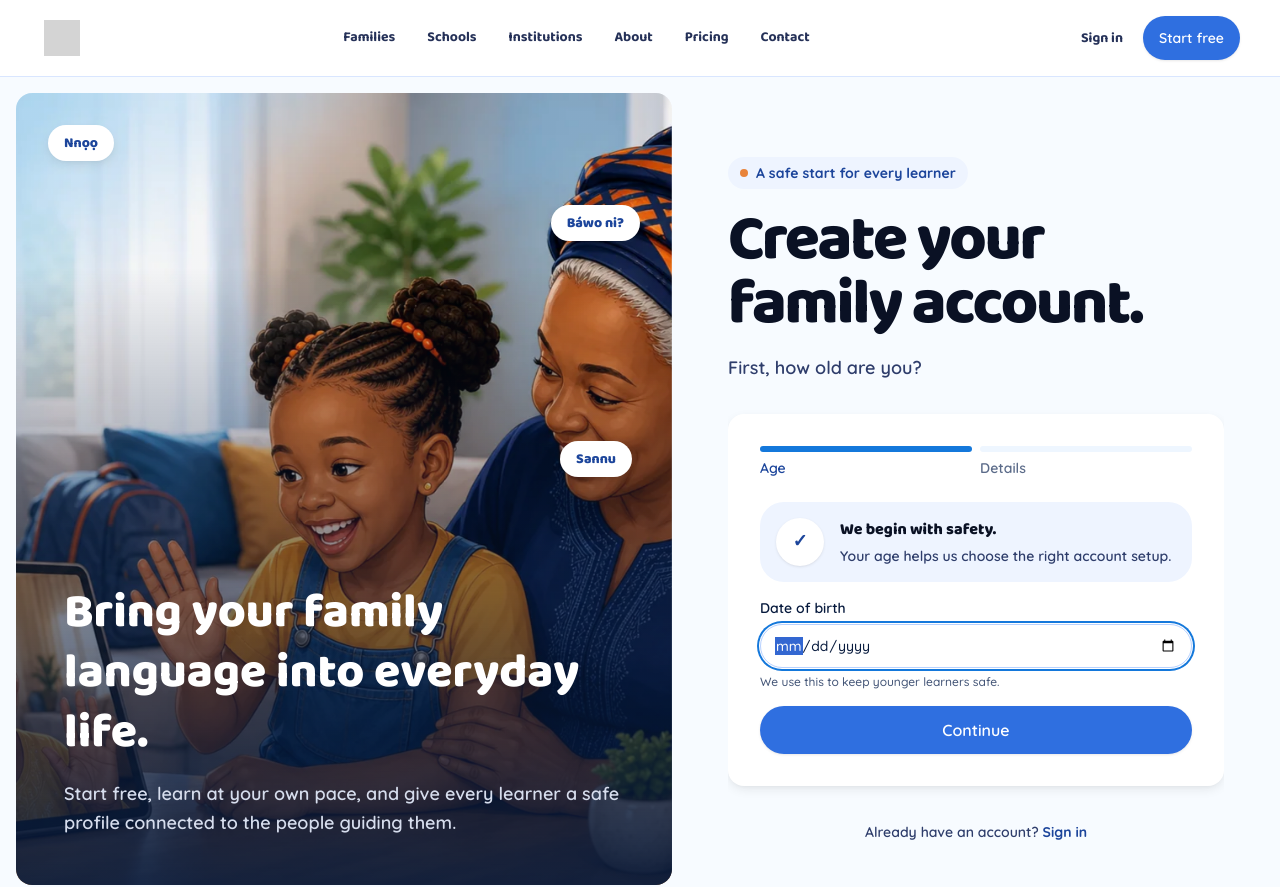
RegisterPage age gate › requires a date of birth before continuing
The width and height of the screenshot is (1280, 887).
Click the button "Continue". click: (976, 730)
box: [760, 706, 1192, 754]
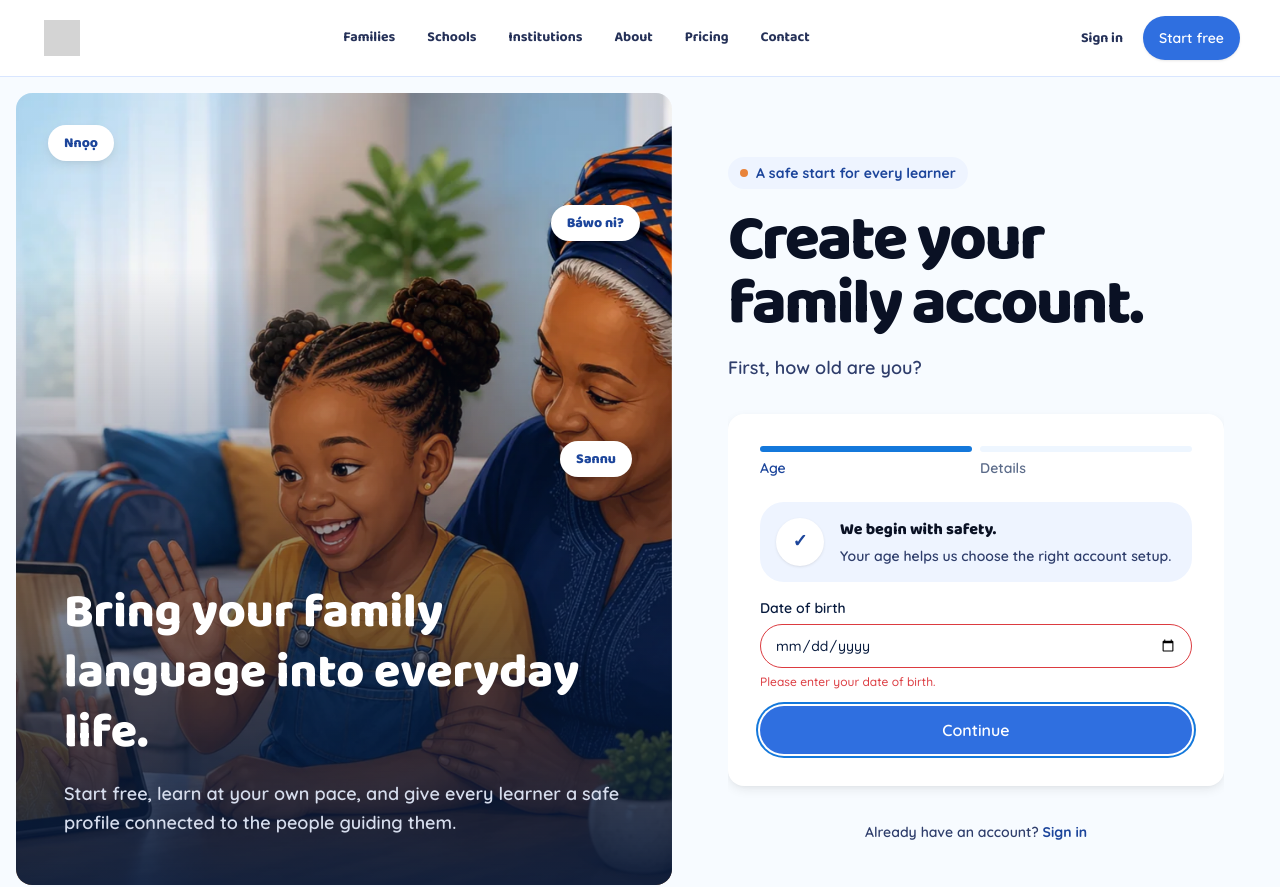
Now the text "Please enter your date of birth." is shown, box [760, 674, 936, 689]
